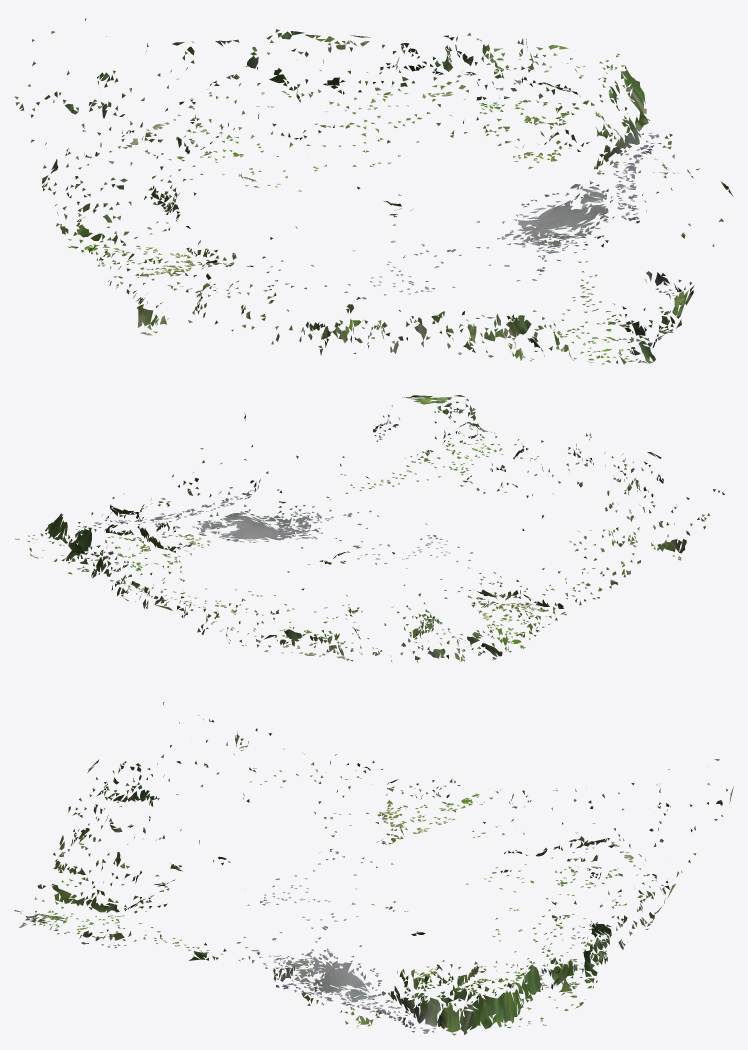
The model's file is rock_outcrop.glb.
3 views of the same model, one above another, from view 1: azimuth 30°, elevation 25°; view 2: azimuth 150°, elevation 25°; view 3: azimuth 270°, elevation 25° (orthographic). The views are drawn at different scales.
Visible parts, largest first — view 1: rock_outcrop; view 2: rock_outcrop; view 3: rock_outcrop.
Boxes of the visible parts, x1,y1,x2,y2 form: rock_outcrop: (14,18,733,364); rock_outcrop: (15,395,724,663); rock_outcrop: (14,702,733,1035).
Size of the model in its own units: 3.9 by 0.5847 by 4.18.
Materials: 1 (1 with a texture image).
